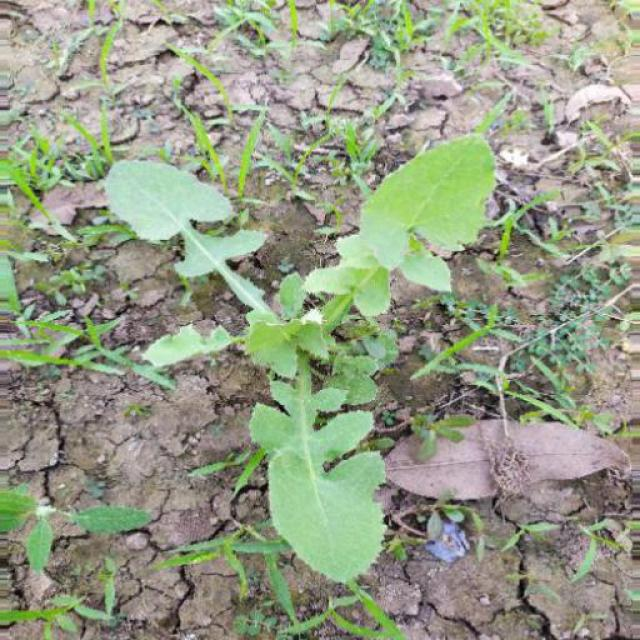weed: (95, 131, 496, 579)
